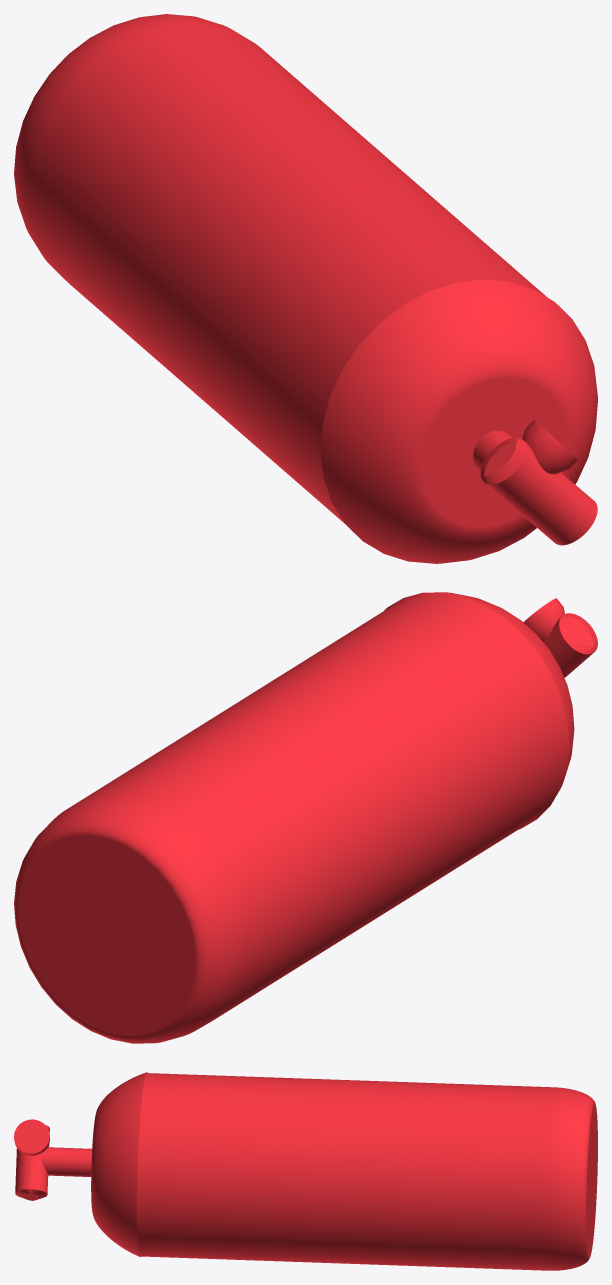
3 views of the same model, one above another, from view 1: azimuth 30°, elevation 25°; view 2: azimuth 150°, elevation 25°; view 3: azimuth 270°, elevation 25° (orthographic). The views are drawn at different scales.
Visible parts, largest first — view 1: Cylinder; view 2: Cylinder; view 3: Cylinder.
Part boxes in pixels (bbox=[...]): Cylinder: bbox=[14, 14, 597, 563]; Cylinder: bbox=[14, 592, 597, 1043]; Cylinder: bbox=[14, 1072, 597, 1270].
Bounding box in the file's own units: 2.34 × 2.02 × 6.36.
